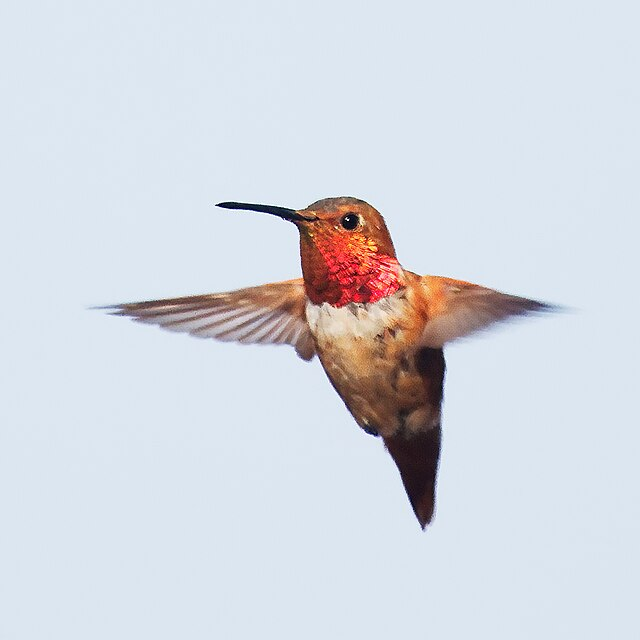selasphorus sasin: (80, 184, 565, 539)
